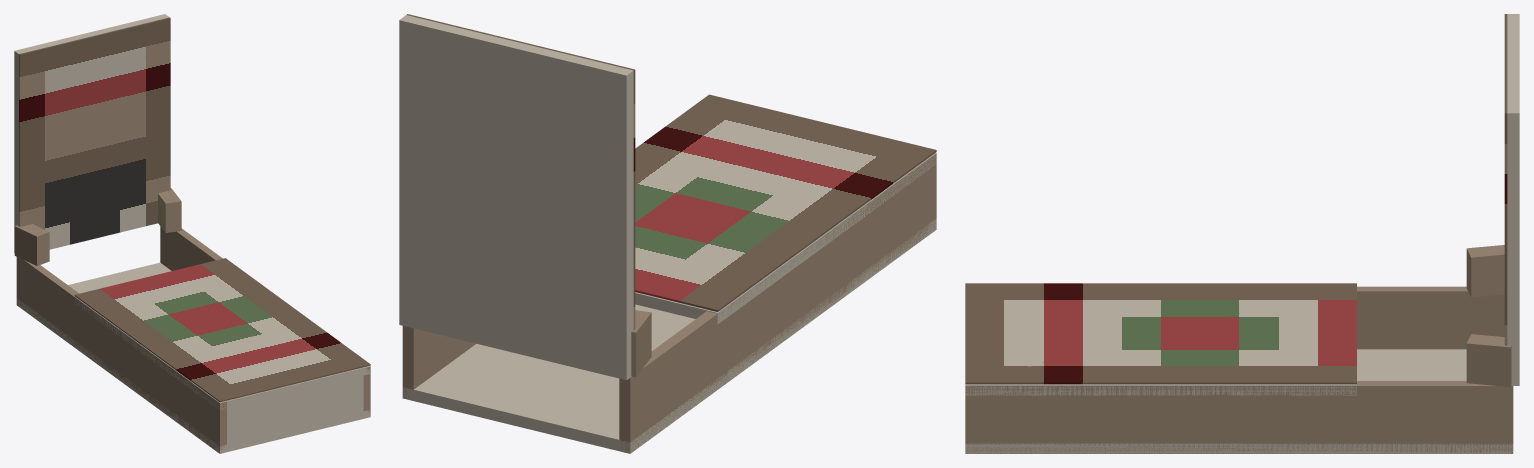
File: CMU3DCMCigarettePackLuckySlothsMiniPrintedSmallCloudOpenEmptyStudy.glb
3 views of the same model, side by side, from view 1: azimuth 30°, elevation 25°; view 2: azimuth 150°, elevation 25°; view 3: azimuth 270°, elevation 25° (orthographic). The views are drawn at different scales.
Visible parts, largest first — view 1: original open inner flap, original lower printed carton face, left folded side panel, lower end fold, carton back panel, folded side dust flap (×2), printed main carton panel, right folded side panel, raised upright carton flap; view 2: raised upright carton flap, original lower printed carton face, left folded side panel, carton back panel, printed main carton panel, right folded side panel, original open inner flap, folded side dust flap; view 3: original lower printed carton face, right folded side panel, carton back panel, left folded side panel, raised upright carton flap, printed main carton panel, folded side dust flap (×2), original open inner flap.
Boxes of the visible parts, x1,y1,x2,y2 form: original open inner flap: [19, 17, 170, 249]; original lower printed carton face: [74, 258, 370, 402]; left folded side panel: [16, 257, 226, 453]; lower end fold: [227, 369, 363, 445]; carton back panel: [16, 262, 370, 453]; folded side dust flap (×2): [14, 188, 181, 265]; printed main carton panel: [75, 296, 370, 410]; right folded side panel: [160, 226, 370, 416]; raised upright carton flap: [14, 14, 169, 252]; raised upright carton flap: [399, 15, 633, 380]; original lower printed carton face: [635, 94, 936, 311]; left folded side panel: [619, 154, 936, 452]; carton back panel: [402, 219, 936, 453]; printed main carton panel: [635, 152, 936, 324]; right folded side panel: [402, 326, 475, 400]; original open inner flap: [407, 14, 635, 329]; folded side dust flap: [631, 310, 651, 376]; original lower printed carton face: [965, 283, 1356, 384]; right folded side panel: [965, 381, 1513, 453]; carton back panel: [965, 349, 1513, 453]; left folded side panel: [1357, 286, 1504, 349]; raised upright carton flap: [1507, 14, 1519, 385]; printed main carton panel: [965, 384, 1356, 395]; folded side dust flap (×2): [1466, 245, 1511, 386]; original open inner flap: [1504, 14, 1507, 345].
Bounding box in the file's own units: 0.1946 × 0.3 × 0.4425.
4 materials, 2 textured.
